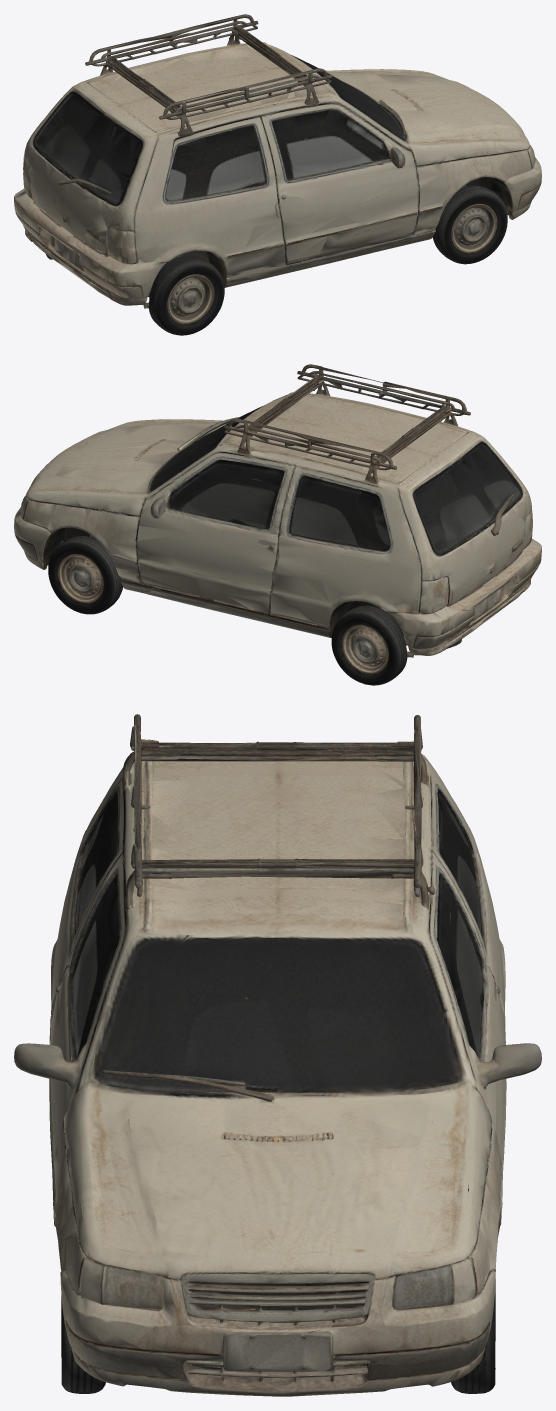
Rendered from furgaozinho-da-firma-abandonado__01a16c1c.glb.
The picture shows the model from 3 angles, top to bottom: view 1: azimuth 30°, elevation 25°; view 2: azimuth 150°, elevation 25°; view 3: azimuth 270°, elevation 25°; orthographic projection. The views are drawn at different scales.
Parts seen in each view (by area): view 1: furgaozinho-da-firma-abandonado; view 2: furgaozinho-da-firma-abandonado; view 3: furgaozinho-da-firma-abandonado.
Part boxes in pixels (box(x1,y1,x2,y2)): furgaozinho-da-firma-abandonado: box(14, 14, 541, 335); furgaozinho-da-firma-abandonado: box(14, 364, 541, 685); furgaozinho-da-firma-abandonado: box(14, 714, 541, 1396).
Size of the model in its own units: 3.69 by 1.7 by 1.98.
Materials: 1 (1 with a texture image).
